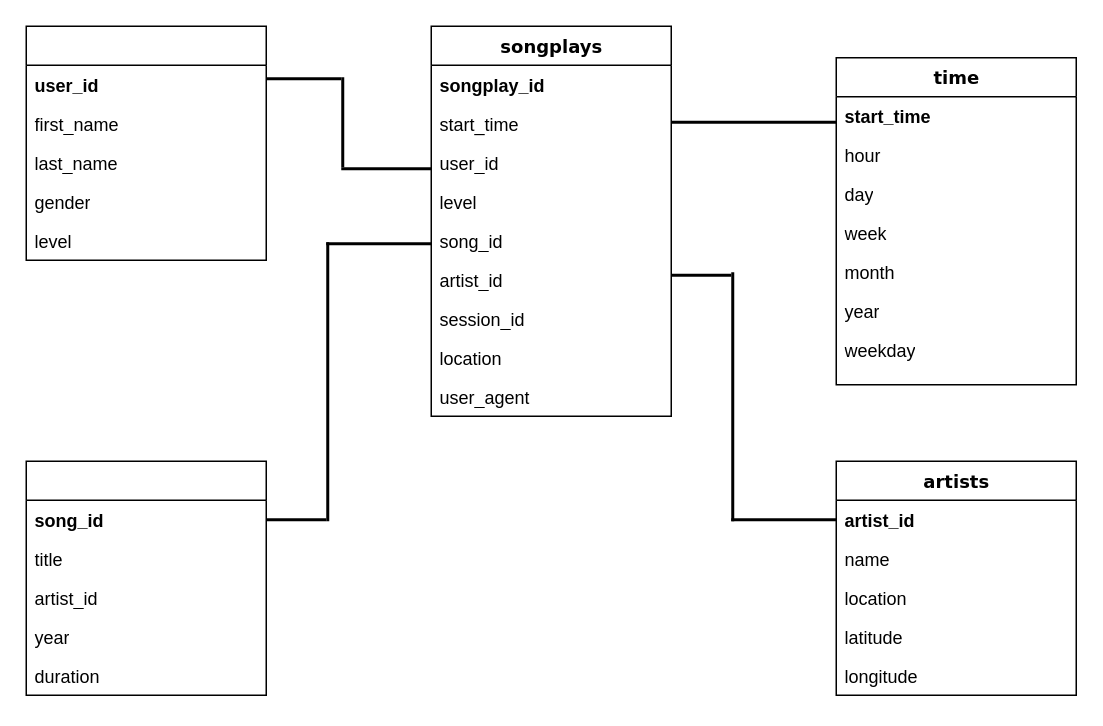
Image size: 1103x726. Some labels were removed from this diagram. Here are the shapes that lost their labels. From the top down, the box of each, then its label:
(25, 25, 266, 260): users
(25, 460, 266, 695): songs
